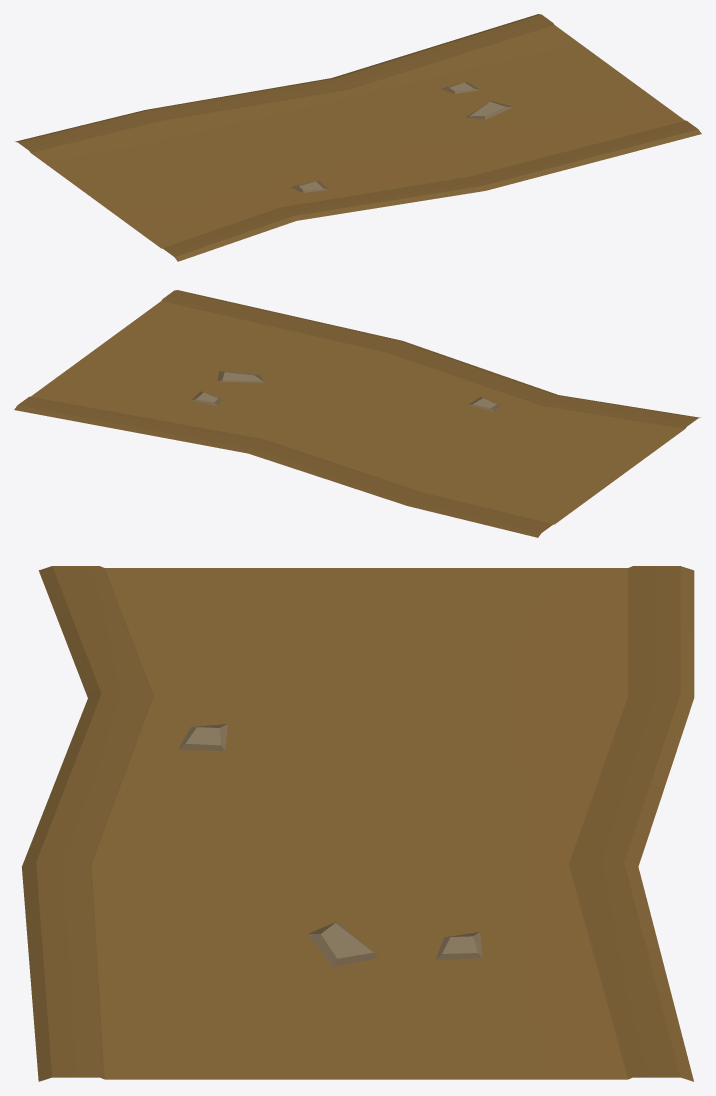
The model's file is Path_Straight_06.gltf.
3 views of the same model, one above another, from view 1: azimuth 30°, elevation 25°; view 2: azimuth 150°, elevation 25°; view 3: azimuth 270°, elevation 25° (orthographic). The views are drawn at different scales.
Parts seen in each view (by area): view 1: SF_Env_Path_Straight_07; view 2: SF_Env_Path_Straight_07; view 3: SF_Env_Path_Straight_07.
Boxes of the visible parts, <box> form: SF_Env_Path_Straight_07: <box>15,14,701,261</box>; SF_Env_Path_Straight_07: <box>14,290,700,537</box>; SF_Env_Path_Straight_07: <box>22,566,694,1081</box>.
Bounding box in the file's own units: 0.1 × 0.000405 × 0.0556.
1 material, 1 textured.
